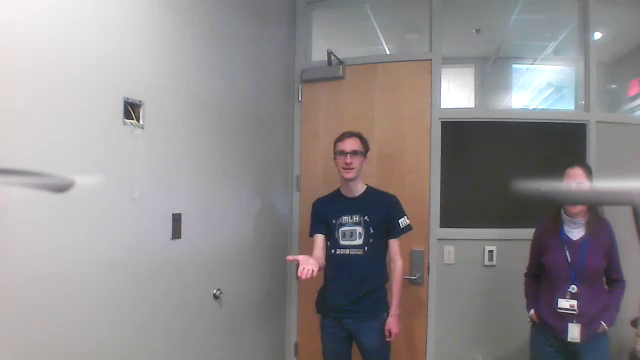land: (281, 245, 325, 283)
